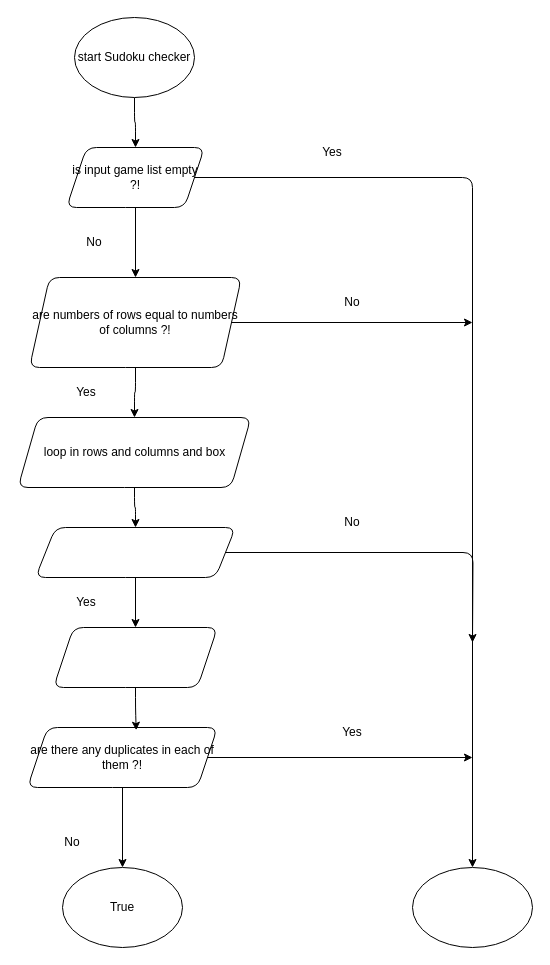
The diagram is 550 pixels wide and 965 high, and some of its shapes have lost their labels. The shapes that lost their labels are listed below. From the top down, each one's centre as x and y in pixels, then its label:
(x=135, y=552): is input between 1..9 or '-'
(x=135, y=657): skip cells contains '-'
(x=472, y=907): False
